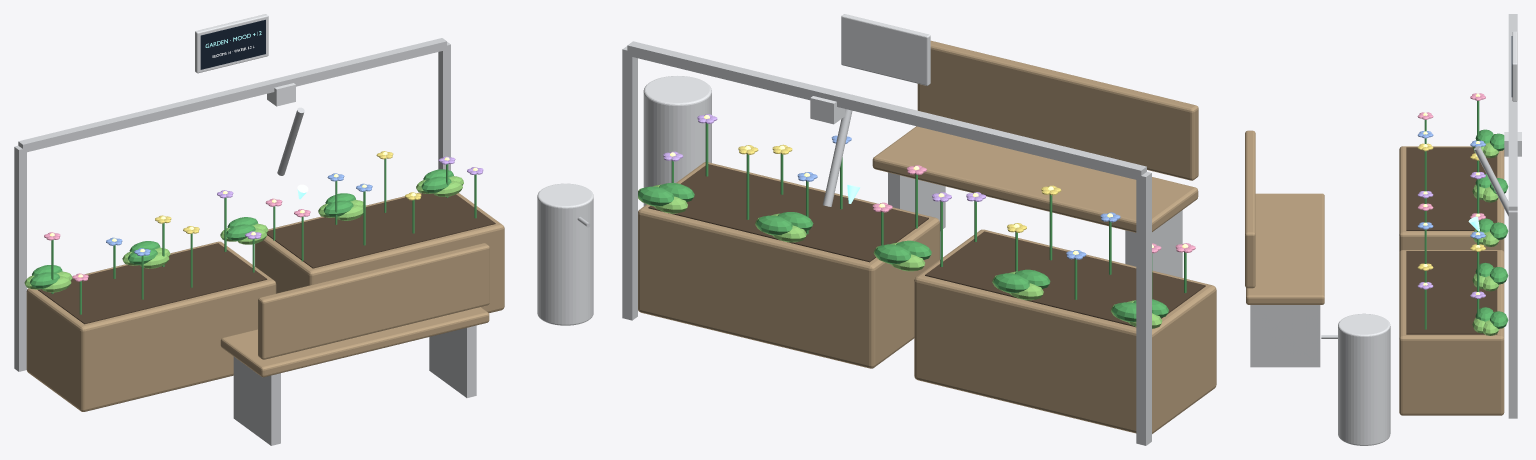
Rendered from emotional_garden.glb.
3 renders of one model, left to right at view 1: azimuth 30°, elevation 25°; view 2: azimuth 150°, elevation 25°; view 3: azimuth 270°, elevation 25°, orthographic. The views are drawn at different scales.
Parts seen in each view (by area): view 1: Raised_Bed, Bench_Back, Bed_Soil.001, Bed_Soil, Water_Station, Raised_Bed.001, Arm_Rail, Bench_Seat, Bench_Leg, Rail_Post, Bench_Leg.001, Garden_Sign_Panel (+3 smaller); view 2: Raised_Bed, Raised_Bed.001, Bench_Back, Bench_Seat, Bed_Soil.001, Bed_Soil, Arm_Rail, Water_Station, Garden_Sign_Bezel, Rail_Post, Rail_Post.001, Bench_Leg (+3 smaller); view 3: Raised_Bed.001, Bench_Seat, Water_Station, Bed_Soil.001, Bed_Soil, Bench_Leg.001, Raised_Bed, Rail_Post.001, Bench_Back, Arm_Rail, Planting_Arm, Garden_Sign_Bezel.
Part boxes in pixels (<box>): Raised_Bed: <box>26,241,276,411</box>; Bench_Back: <box>258,243,489,359</box>; Bed_Soil.001: <box>267,193,495,268</box>; Bed_Soil: <box>37,243,267,324</box>; Water_Station: <box>537,183,593,325</box>; Raised_Bed.001: <box>255,192,504,313</box>; Arm_Rail: <box>18,38,446,153</box>; Bench_Seat: <box>220,307,489,377</box>; Bench_Leg: <box>233,357,280,445</box>; Rail_Post: <box>14,145,26,371</box>; Bench_Leg.001: <box>429,325,476,397</box>; Garden_Sign_Panel: <box>200,19,265,69</box>; Raised_Bed: <box>914,229,1216,433</box>; Raised_Bed.001: <box>638,162,939,368</box>; Bench_Back: <box>917,40,1198,180</box>; Bench_Seat: <box>872,126,1198,232</box>; Bed_Soil.001: <box>648,164,928,262</box>; Bed_Soil: <box>925,231,1205,327</box>; Arm_Rail: <box>627,41,1146,180</box>; Water_Station: <box>643,76,711,205</box>; Garden_Sign_Bezel: <box>841,14,930,85</box>; Rail_Post: <box>1136,172,1151,445</box>; Rail_Post.001: <box>622,46,637,320</box>; Bench_Leg: <box>1125,210,1182,277</box>; Raised_Bed.001: <box>1399,250,1504,415</box>; Bench_Seat: <box>1246,193,1324,304</box>; Water_Station: <box>1338,313,1390,445</box>; Bed_Soil.001: <box>1406,251,1497,334</box>; Bed_Soil: <box>1406,147,1497,230</box>; Bench_Leg.001: <box>1250,305,1320,367</box>; Raised_Bed: <box>1399,146,1504,252</box>; Rail_Post.001: <box>1508,210,1517,418</box>; Bench_Back: <box>1245,130,1255,288</box>; Arm_Rail: <box>1508,14,1517,210</box>; Planting_Arm: <box>1474,146,1508,216</box>; Garden_Sign_Bezel: <box>1512,31,1517,101</box>.
Size of the model in its own units: 3.03 by 1.72 by 1.58.
